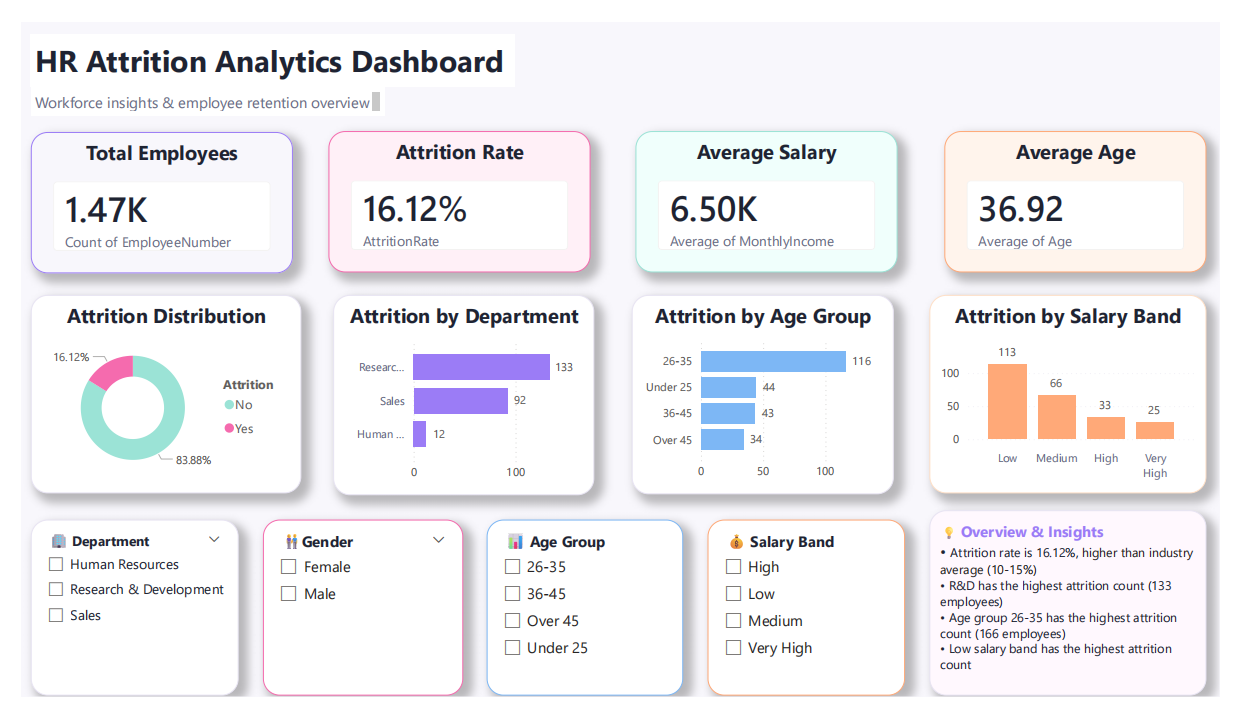

What the dashboard file says about the page in this screenshot:
{"tool":"powerbi","page":{"name":"Overview Dashboard","canvas":[1280,720],"ordinal":0},"visuals":[{"type":"cardVisual","title":"Total Employees","fields":{"Data":["CountNonNull(HR.EmployeeNumber)"]},"box":[9.7,117,279.9,150.8],"z":0},{"type":"cardVisual","title":"Attrition Rate","fields":{"Data":["HR.AttritionRate"]},"box":[328.2,115.8,279.9,150.8],"z":1000},{"type":"cardVisual","title":"Average Salary","fields":{"Data":["Avg(HR.MonthlyIncome)"]},"box":[656.3,115.8,279.9,150.8],"z":2000},{"type":"cardVisual","title":"Average Age","fields":{"Data":["Avg(HR.Age)"]},"box":[985.7,115.8,279.9,150.8],"z":3000},{"type":"donutChart","title":"Attrition Distribution","fields":{"Category":["HR.Attrition"],"Y":["CountNonNull(HR.EmployeeNumber)"]},"box":[9.7,290.8,289.5,212.3],"z":4000},{"type":"clusteredBarChart","title":"Attrition by Department","fields":{"Category":["HR.Department"],"Y":["Sum(HR.AttritionFlag)"]},"box":[332.5,290.9,279.9,214.1],"z":5000},{"type":"clusteredBarChart","title":"Attrition by Age Group","fields":{"Category":["HR.AgeGroup"],"Y":["Sum(HR.AttritionFlag)"]},"box":[651.8,290.9,279.9,212.7],"z":6000},{"type":"clusteredColumnChart","title":"Attrition by Salary Band","fields":{"Category":["HR.SalaryBand"],"Y":["Sum(HR.AttritionFlag)"]},"box":[970,290.8,295.6,212.3],"z":7000},{"type":"slicer","fields":{"Values":["HR.Department"]},"box":[9.6,530.8,222.3,188],"z":8000},{"type":"slicer","fields":{"Values":["HR.Gender"]},"box":[257.6,530.8,214.1,188],"z":9000},{"type":"slicer","fields":{"Values":["HR.AgeGroup"]},"box":[497.5,530.8,209.9,188.2],"z":10000},{"type":"slicer","fields":{"Values":["HR.SalaryBand"]},"box":[733.1,530.8,211.1,188.2],"z":11000},{"type":"textbox","box":[9.7,13.3,517.6,55.5],"z":12000},{"type":"textbox","box":[9.7,68.8,378.8,30.2],"z":13000},{"type":"textbox","box":[970,521.2,295.6,197.9],"z":14000}]}

Visuals, with their boxes in screenshot pixels (x1, y1, x2, y2), scaled from the page's 1280x720 canvas onto the 1241x717 screenshot:
"Total Employees" cardVisual: 9/117/281/267
"Attrition Rate" cardVisual: 318/115/590/265
"Average Salary" cardVisual: 636/115/908/265
"Average Age" cardVisual: 956/115/1227/265
"Attrition Distribution" donutChart: 9/290/290/501
"Attrition by Department" clusteredBarChart: 322/290/594/503
"Attrition by Age Group" clusteredBarChart: 632/290/903/502
"Attrition by Salary Band" clusteredColumnChart: 940/290/1227/501
slicer - HR.Department: 9/529/225/716
slicer - HR.Gender: 250/529/457/716
slicer - HR.AgeGroup: 482/529/686/716
slicer - HR.SalaryBand: 711/529/915/716
textbox: 9/13/511/69
textbox: 9/69/377/99
textbox: 940/519/1227/716
